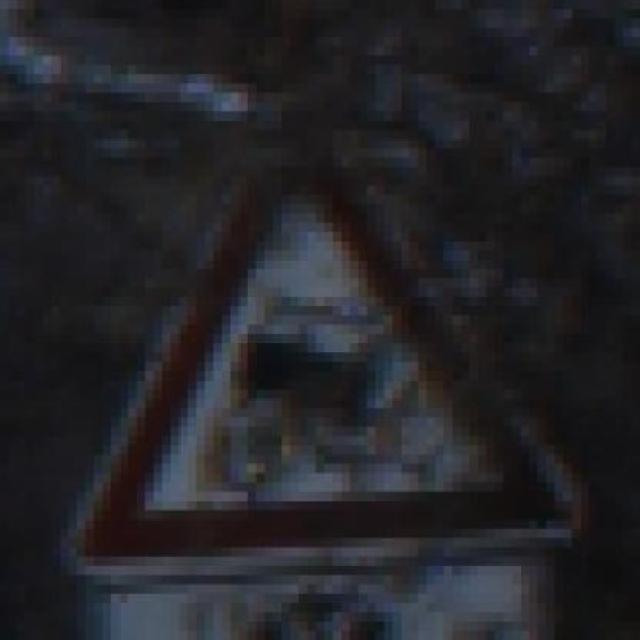Slippery Road Ahead: (43, 92, 623, 585)
